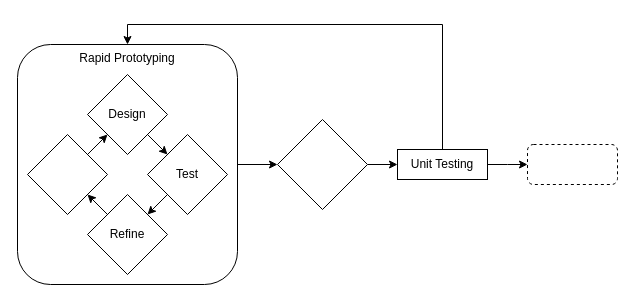
Image size: 635x302. Some labels were removed from this diagram. The centre of each missing label's shape, as x and y in pixels:
"Completed Subsystem" goes at [322,164].
"Review" goes at [67,174].
"System Integration" goes at [572,164].
